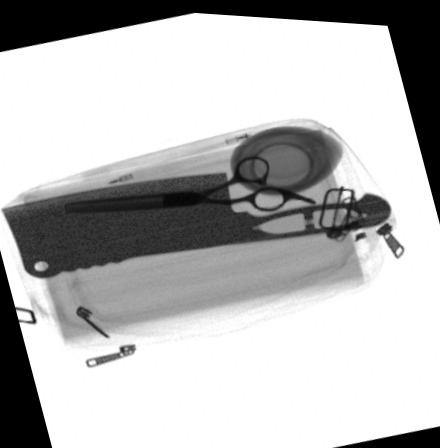Knife: (0, 167, 391, 277)
Scissors: (64, 150, 316, 212)
